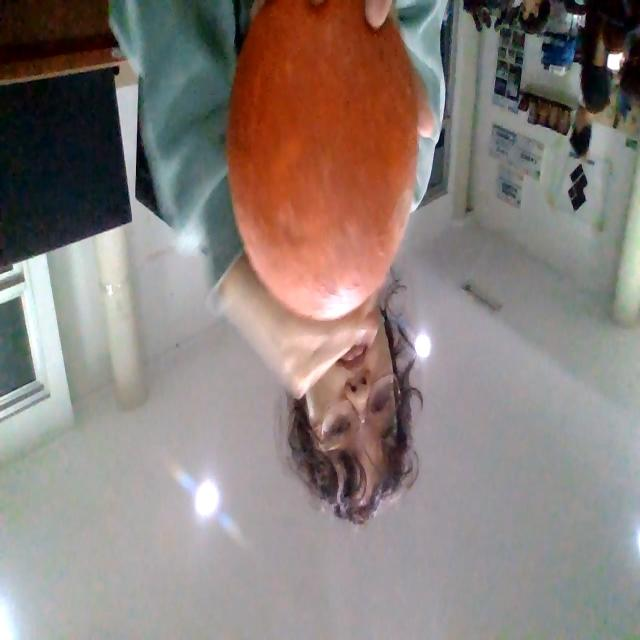ball: (225, 2, 419, 322)
